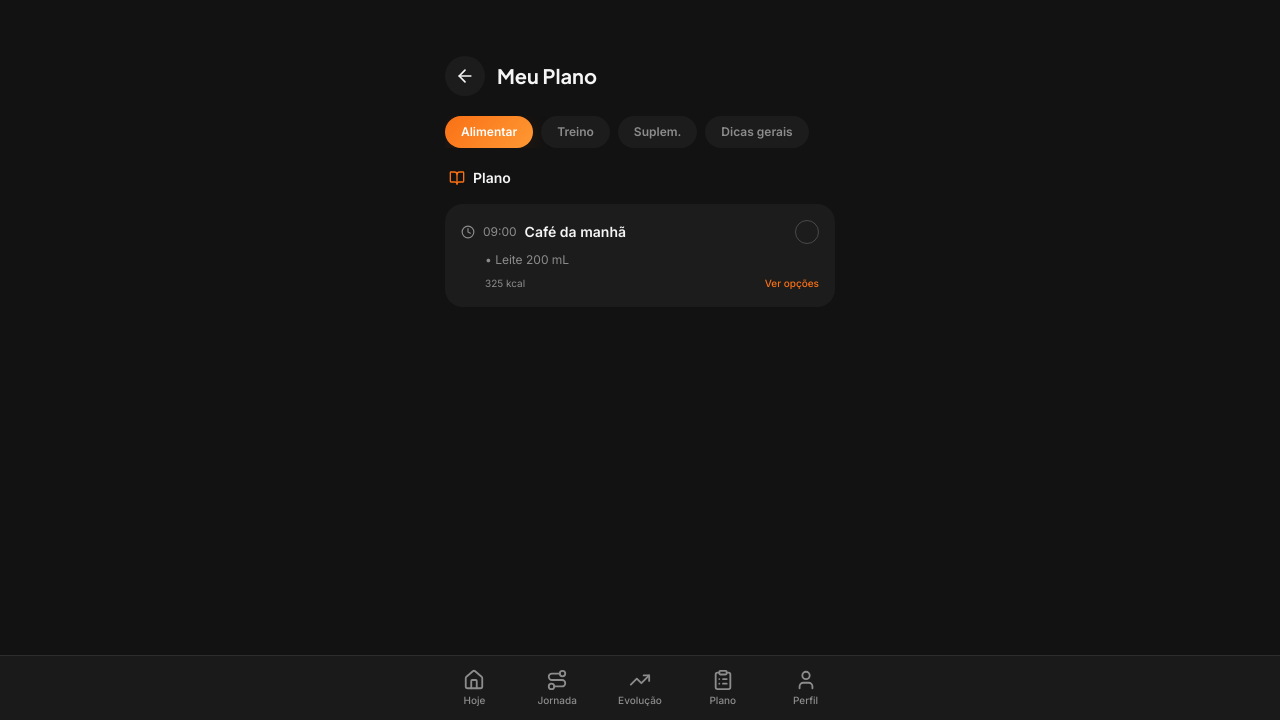
Test case: Plano › Alimentar — opções de troca (tela 19 do PDF do Ernâni) › abre o painel com a opção atual destacada e as alternativas com kcal
The width and height of the screenshot is (1280, 720).
Click the button "Ver opções" at (792, 284), box [765, 276, 819, 291]
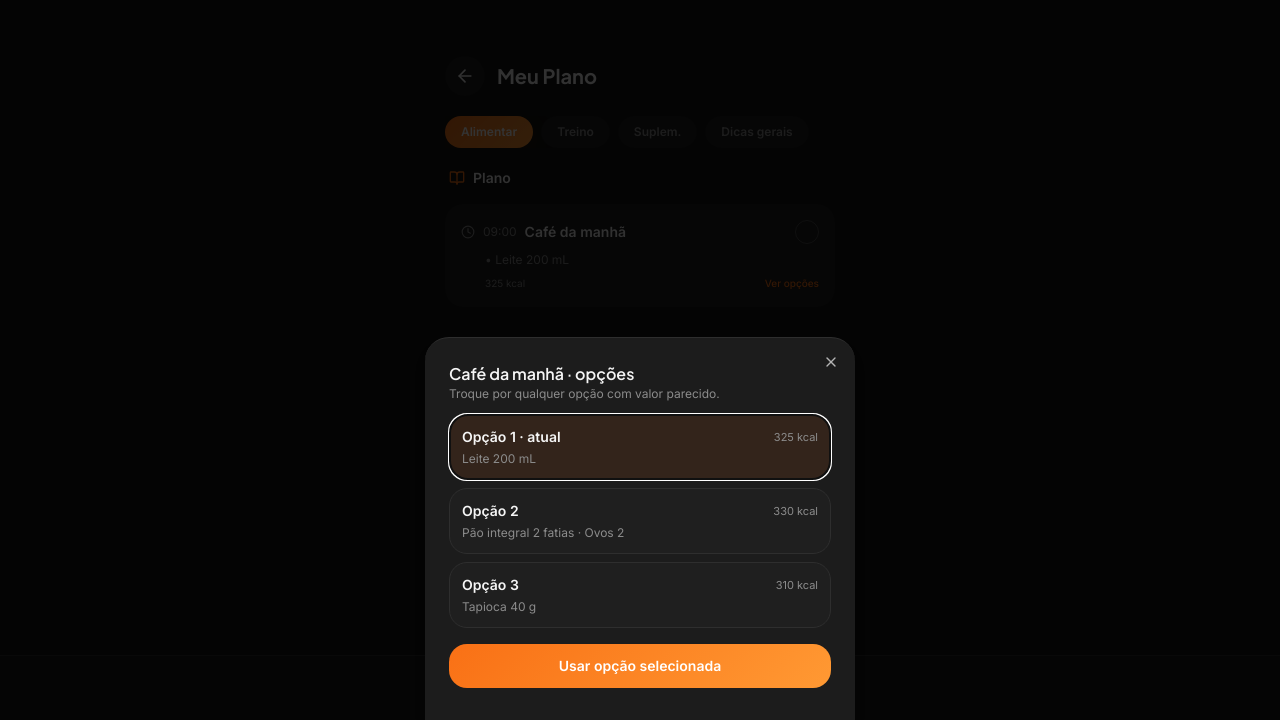
Check: the text "Opção 1 · atual" is shown, box [462, 427, 561, 447]
Check: the text "Opção 2" is shown, box [462, 501, 519, 521]
Check: the text "330 kcal" is shown, box [773, 503, 818, 519]
